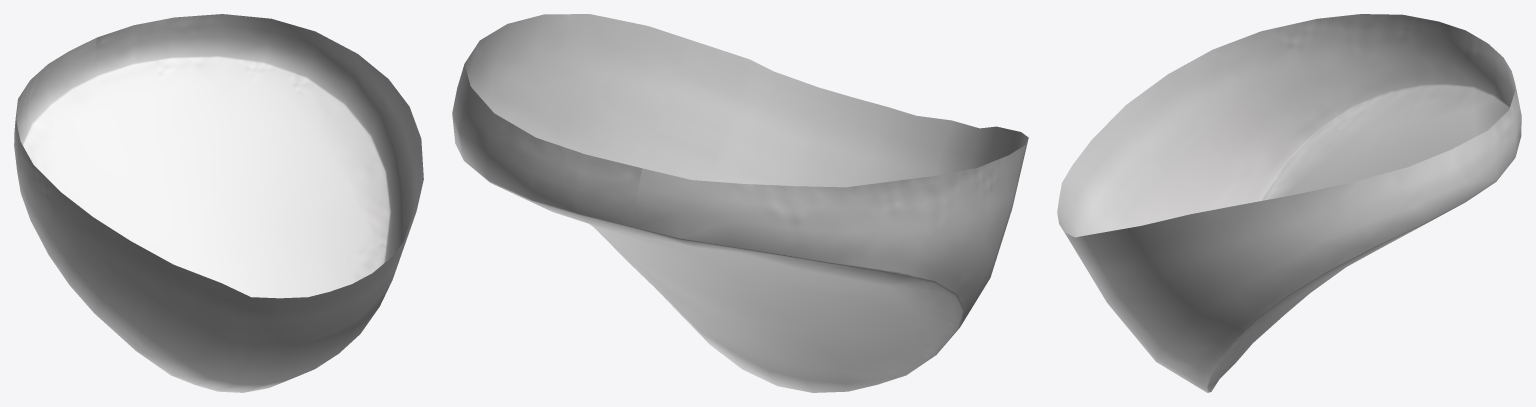
3 views of the same model, side by side, from view 1: azimuth 30°, elevation 25°; view 2: azimuth 150°, elevation 25°; view 3: azimuth 270°, elevation 25° (orthographic). The views are drawn at different scales.
Bounding box in the file's own units: 0.0286 × 0.0208 × 0.0297.
1 material, 1 textured.
